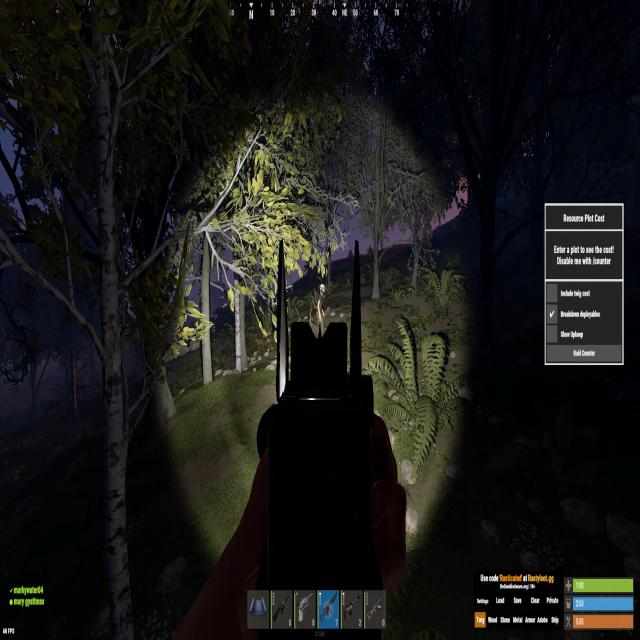Player: (316, 283, 325, 339)
